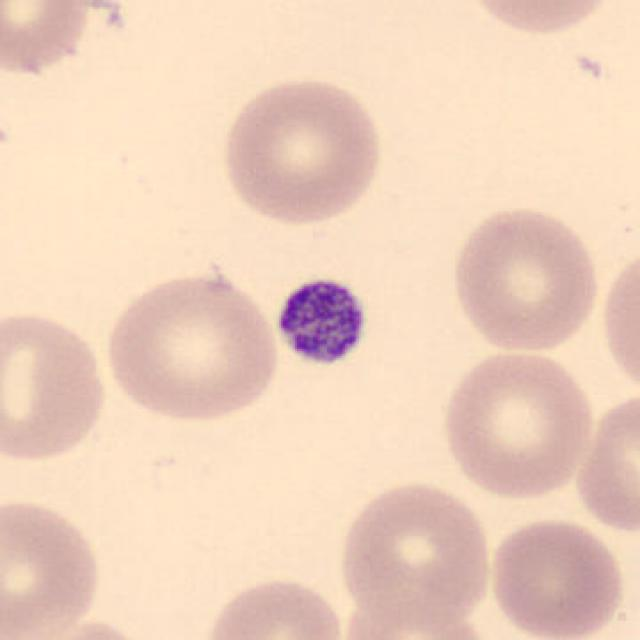Platelets: (272, 272, 373, 372)
RBC: (100, 266, 282, 425), (215, 72, 388, 228), (436, 344, 598, 501), (334, 476, 498, 629), (444, 201, 604, 356), (486, 513, 630, 640), (0, 305, 112, 467), (0, 492, 107, 638), (570, 386, 640, 537), (199, 571, 349, 640), (0, 0, 98, 79), (595, 238, 640, 403), (336, 594, 496, 640), (457, 0, 620, 39), (10, 613, 163, 640)
